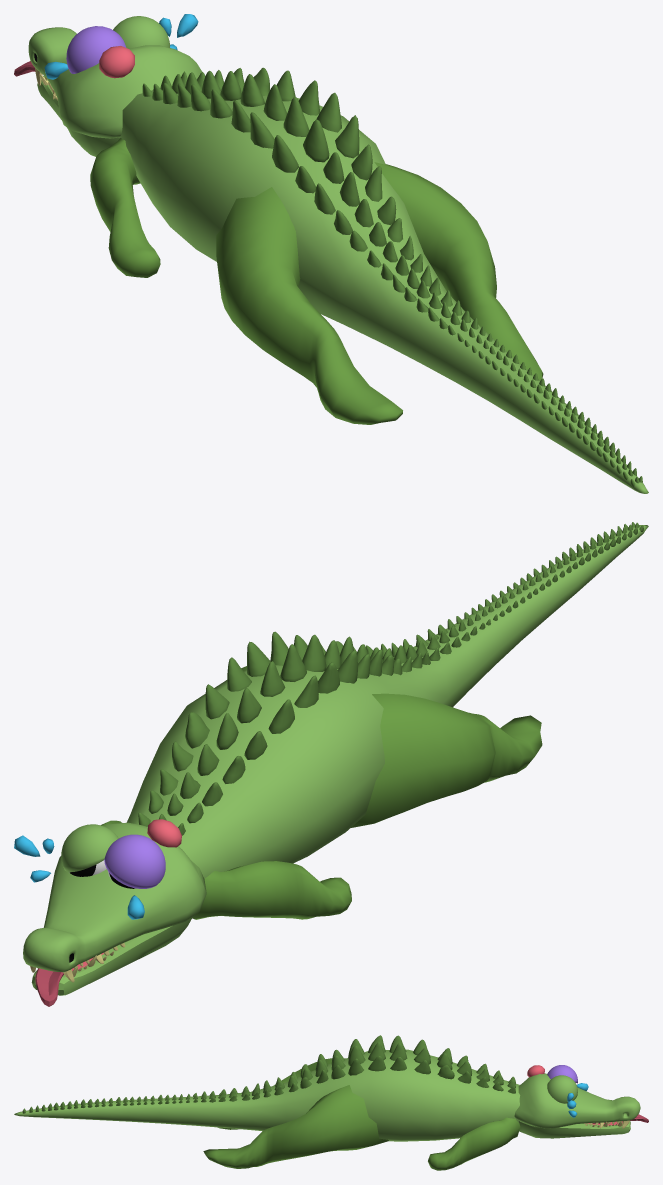
Rendered from CROC_ATTACKED_MESH.fbx.
The picture shows the model from 3 angles, top to bottom: view 1: azimuth 30°, elevation 25°; view 2: azimuth 150°, elevation 25°; view 3: azimuth 270°, elevation 25°; orthographic projection. The views are drawn at different scales.
Parts seen in each view (by area): view 1: Cube.002; view 2: Cube.002; view 3: Cube.002.
Part boxes in pixels (x1,y1,x2,y2): Cube.002: (14,14,648,493); Cube.002: (14,522,648,1006); Cube.002: (14,1035,648,1170).
Size of the model in its own units: 966 by 760 by 4166.
